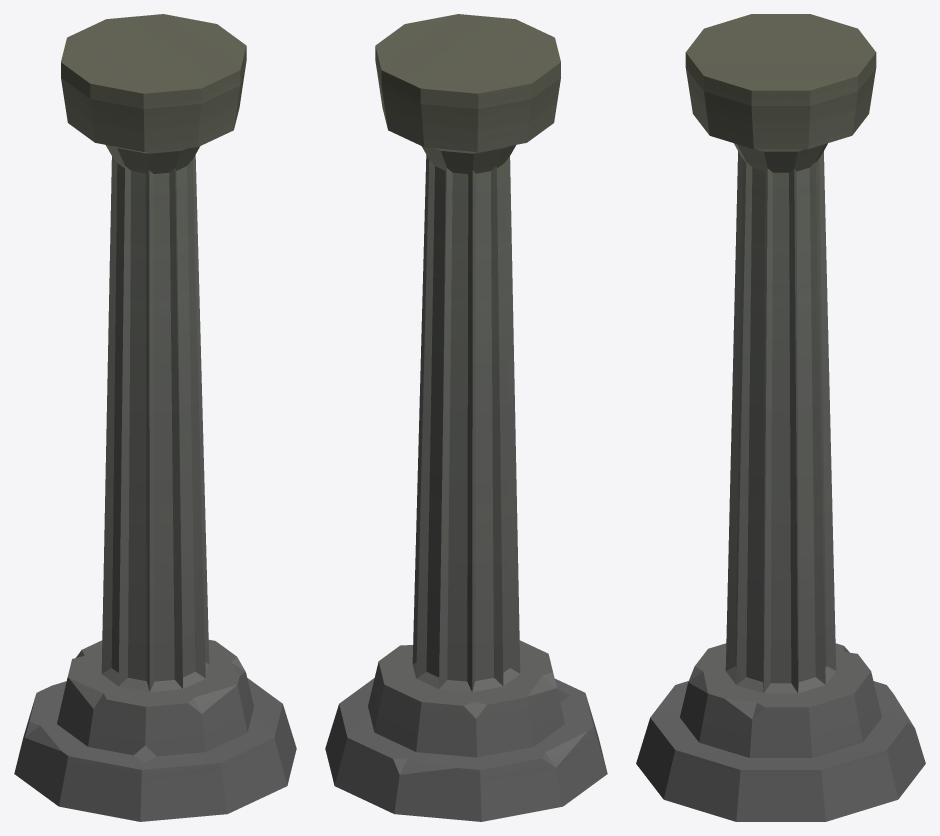
File: ea_bld_column_01c_pre_lev1.glb
3 renders of one model, left to right at view 1: azimuth 30°, elevation 25°; view 2: azimuth 150°, elevation 25°; view 3: azimuth 270°, elevation 25°, orthographic.
Parts seen in each view (by area): view 1: ea_bld_column_01c_pre_lev1; view 2: ea_bld_column_01c_pre_lev1; view 3: ea_bld_column_01c_pre_lev1.
Boxes of the visible parts, box(x1,y1,x2,y2) form: ea_bld_column_01c_pre_lev1: box(14, 14, 296, 821); ea_bld_column_01c_pre_lev1: box(325, 14, 607, 821); ea_bld_column_01c_pre_lev1: box(636, 14, 925, 821).
Size of the model in its own units: 2.25 by 6.4 by 2.37.
Materials: 1 (1 with a texture image).
